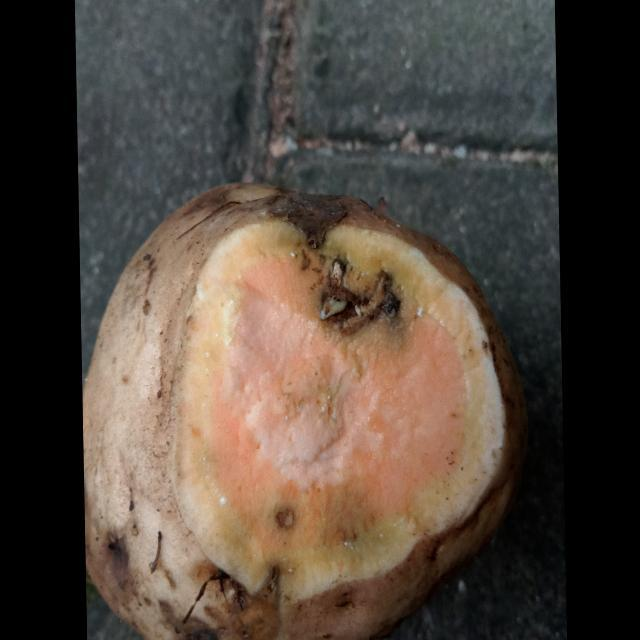Sick Sweet Potato_Tuber Rot: (174, 220, 504, 602)
